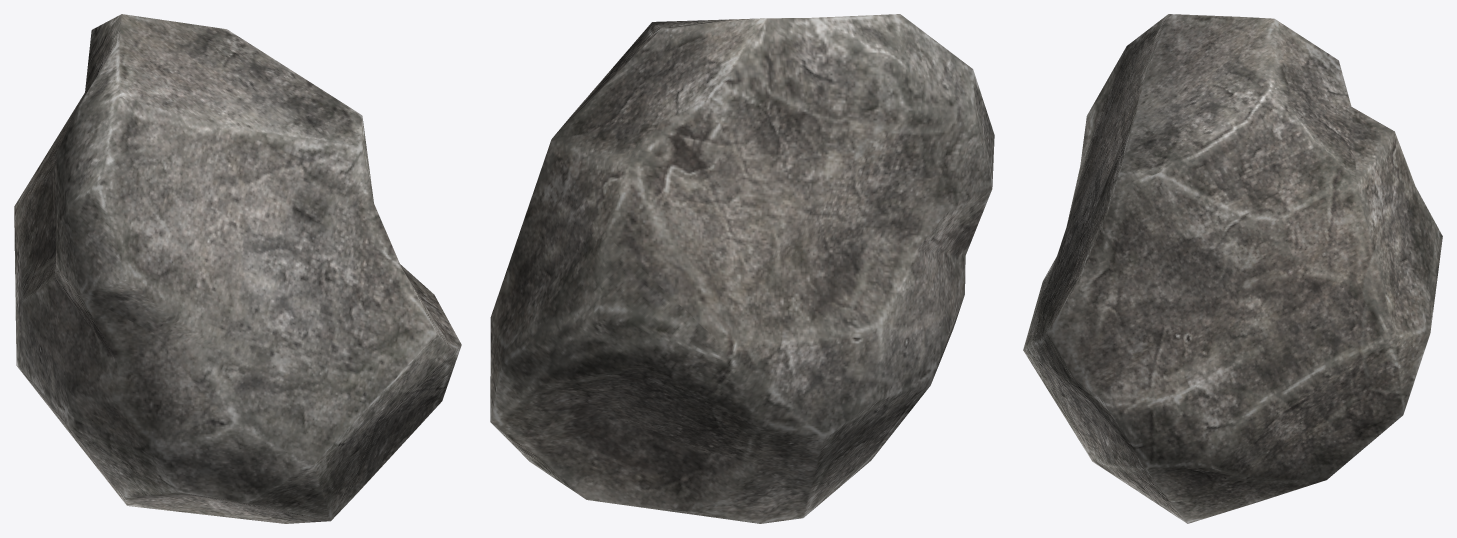
File: piece.obj
The picture shows the model from 3 angles, left to right: view 1: azimuth 30°, elevation 25°; view 2: azimuth 150°, elevation 25°; view 3: azimuth 270°, elevation 25°; orthographic projection. The views are drawn at different scales.
Parts seen in each view (by area): view 1: Rock4; view 2: Rock4; view 3: Rock4.
Boxes of the visible parts, x1,y1,x2,y2 form: Rock4: (14,14,461,523); Rock4: (490,14,994,523); Rock4: (1023,14,1442,523).
Bounding box in the file's own units: 0.2079 × 0.2547 × 0.2268.
Materials: 1 (1 with a texture image).
